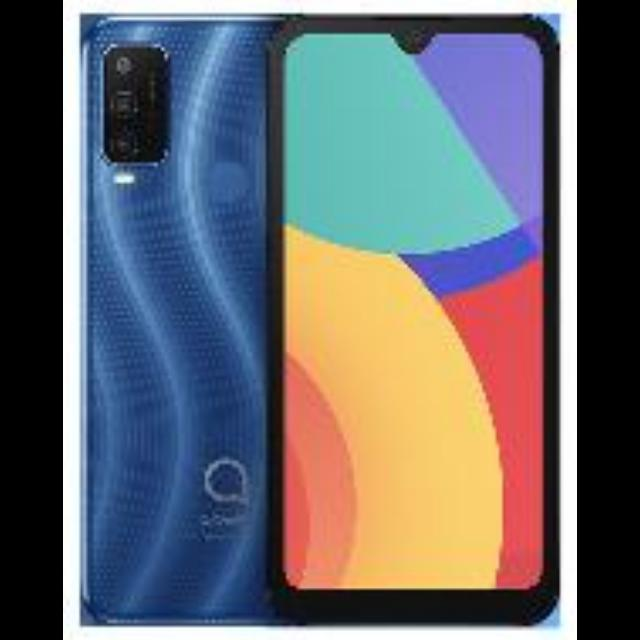phone: (289, 10, 587, 604), (70, 13, 288, 600), (0, 15, 62, 612)
